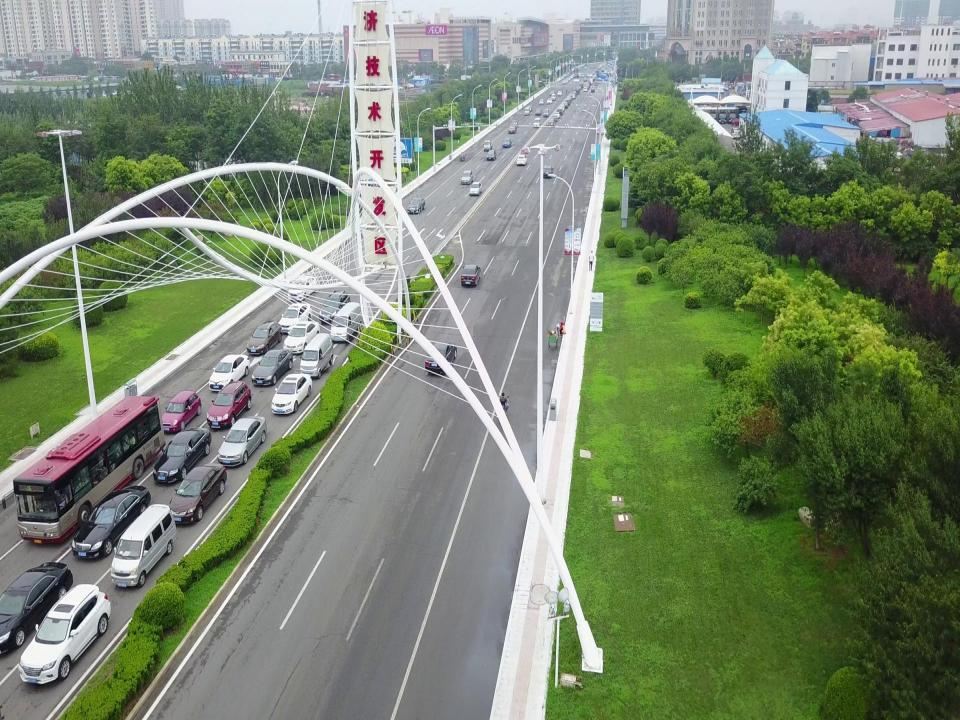bus: (2, 396, 166, 544)
car: (0, 561, 73, 657), (71, 486, 151, 558), (167, 464, 227, 524), (153, 428, 211, 483), (218, 416, 267, 466), (271, 373, 312, 413), (208, 354, 250, 391), (251, 348, 293, 385), (283, 321, 320, 353), (424, 340, 456, 374), (278, 303, 312, 333), (288, 276, 318, 300), (461, 264, 481, 287), (407, 198, 426, 214), (470, 182, 482, 196), (542, 166, 554, 179), (516, 155, 527, 166), (486, 150, 496, 160), (502, 138, 512, 148), (508, 125, 517, 134), (510, 120, 518, 127), (546, 119, 554, 126), (548, 117, 556, 124), (550, 115, 558, 121), (527, 105, 533, 112), (538, 98, 544, 105), (566, 96, 572, 103), (535, 109, 541, 115), (546, 98, 552, 104), (554, 112, 560, 118), (559, 104, 565, 110), (570, 93, 576, 98), (571, 94, 576, 99), (550, 90, 554, 95), (557, 91, 562, 95), (568, 95, 572, 100), (572, 91, 576, 96), (591, 88, 595, 93), (583, 87, 587, 91), (585, 86, 589, 90), (562, 80, 566, 84)
truck: (483, 140, 493, 152), (572, 79, 580, 94)
van: (18, 584, 111, 684), (110, 504, 176, 587), (206, 381, 252, 428), (160, 390, 202, 431), (300, 332, 334, 378), (331, 302, 363, 343), (246, 320, 282, 354), (319, 290, 351, 322), (461, 171, 473, 183), (533, 118, 541, 128), (555, 108, 563, 115), (524, 107, 530, 115), (543, 109, 549, 117), (550, 93, 556, 101), (562, 101, 568, 109), (558, 105, 564, 112), (564, 99, 570, 106)
